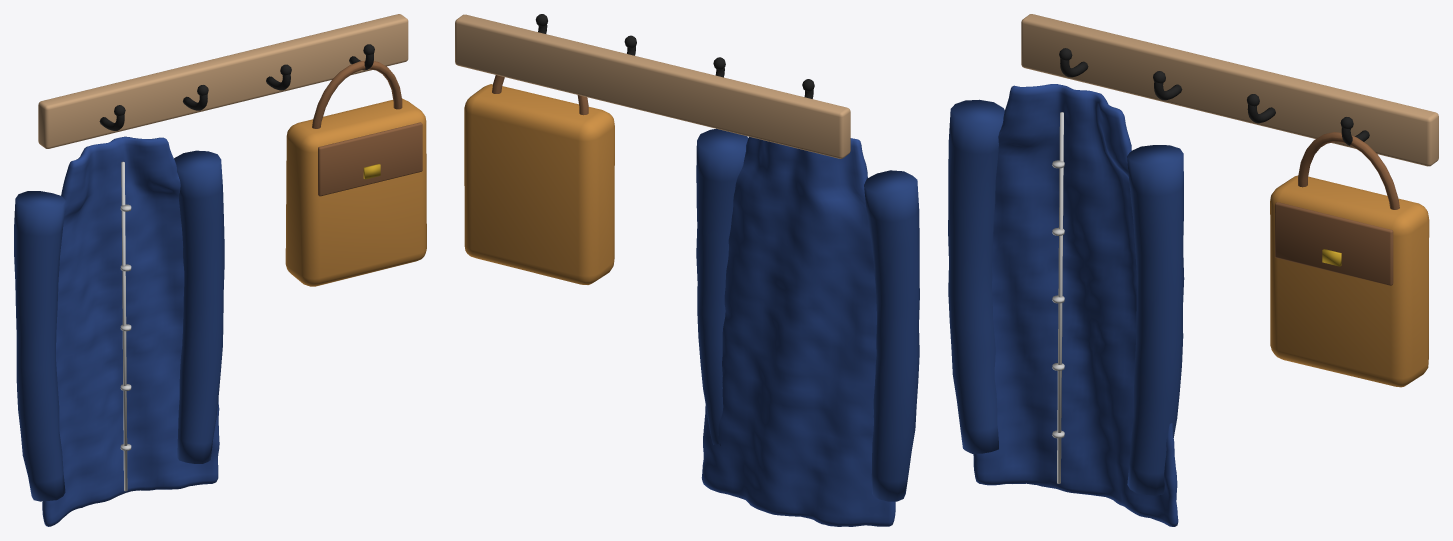
The model's file is props-coatrack.glb.
3 renders of one model, left to right at view 1: azimuth 30°, elevation 25°; view 2: azimuth 150°, elevation 25°; view 3: azimuth 330°, elevation 25°, orthographic. The views are drawn at different scales.
Visible parts, largest first — view 1: CoatRack__Jacket, CoatRack__Sleeves, CoatRack__Bag, CoatRack__Rail, CoatRack__BagStrap, CoatRack__Zipper, CoatRack__Hooks; view 2: CoatRack__Jacket, CoatRack__Bag, CoatRack__Sleeves, CoatRack__Rail, CoatRack__Hooks; view 3: CoatRack__Jacket, CoatRack__Sleeves, CoatRack__Bag, CoatRack__Rail, CoatRack__BagStrap, CoatRack__Zipper, CoatRack__Hooks.
Boxes of the visible parts, <box> form: CoatRack__Jacket: <box>42,136,219,526</box>; CoatRack__Sleeves: <box>14,150,224,501</box>; CoatRack__Bag: <box>285,98,426,286</box>; CoatRack__Rail: <box>38,14,408,148</box>; CoatRack__BagStrap: <box>312,61,422,196</box>; CoatRack__Zipper: <box>120,161,131,491</box>; CoatRack__Hooks: <box>99,44,374,130</box>; CoatRack__Jacket: <box>701,137,895,526</box>; CoatRack__Bag: <box>464,84,614,284</box>; CoatRack__Sleeves: <box>696,128,919,501</box>; CoatRack__Rail: <box>455,14,850,158</box>; CoatRack__Hooks: <box>535,14,814,98</box>; CoatRack__Jacket: <box>973,84,1178,526</box>; CoatRack__Sleeves: <box>948,99,1184,495</box>; CoatRack__Bag: <box>1270,175,1429,387</box>; CoatRack__Rail: <box>1021,14,1438,166</box>; CoatRack__BagStrap: <box>1275,132,1399,285</box>; CoatRack__Zipper: <box>1052,112,1064,483</box>; CoatRack__Hooks: <box>1059,48,1369,145</box>.
Bounding box in the file's own units: 78.73 × 74.11 × 12.3.
